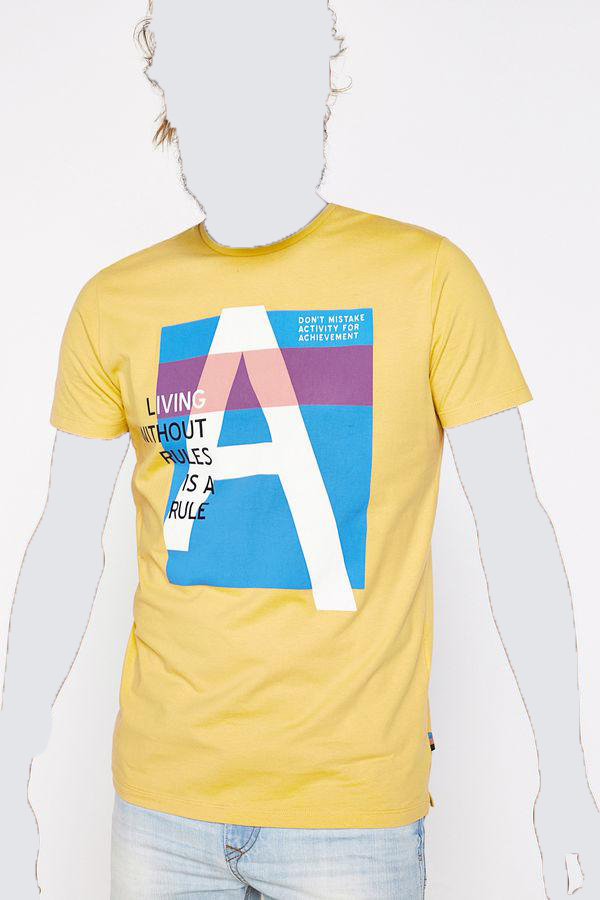teeshirt: (42, 200, 531, 825)
